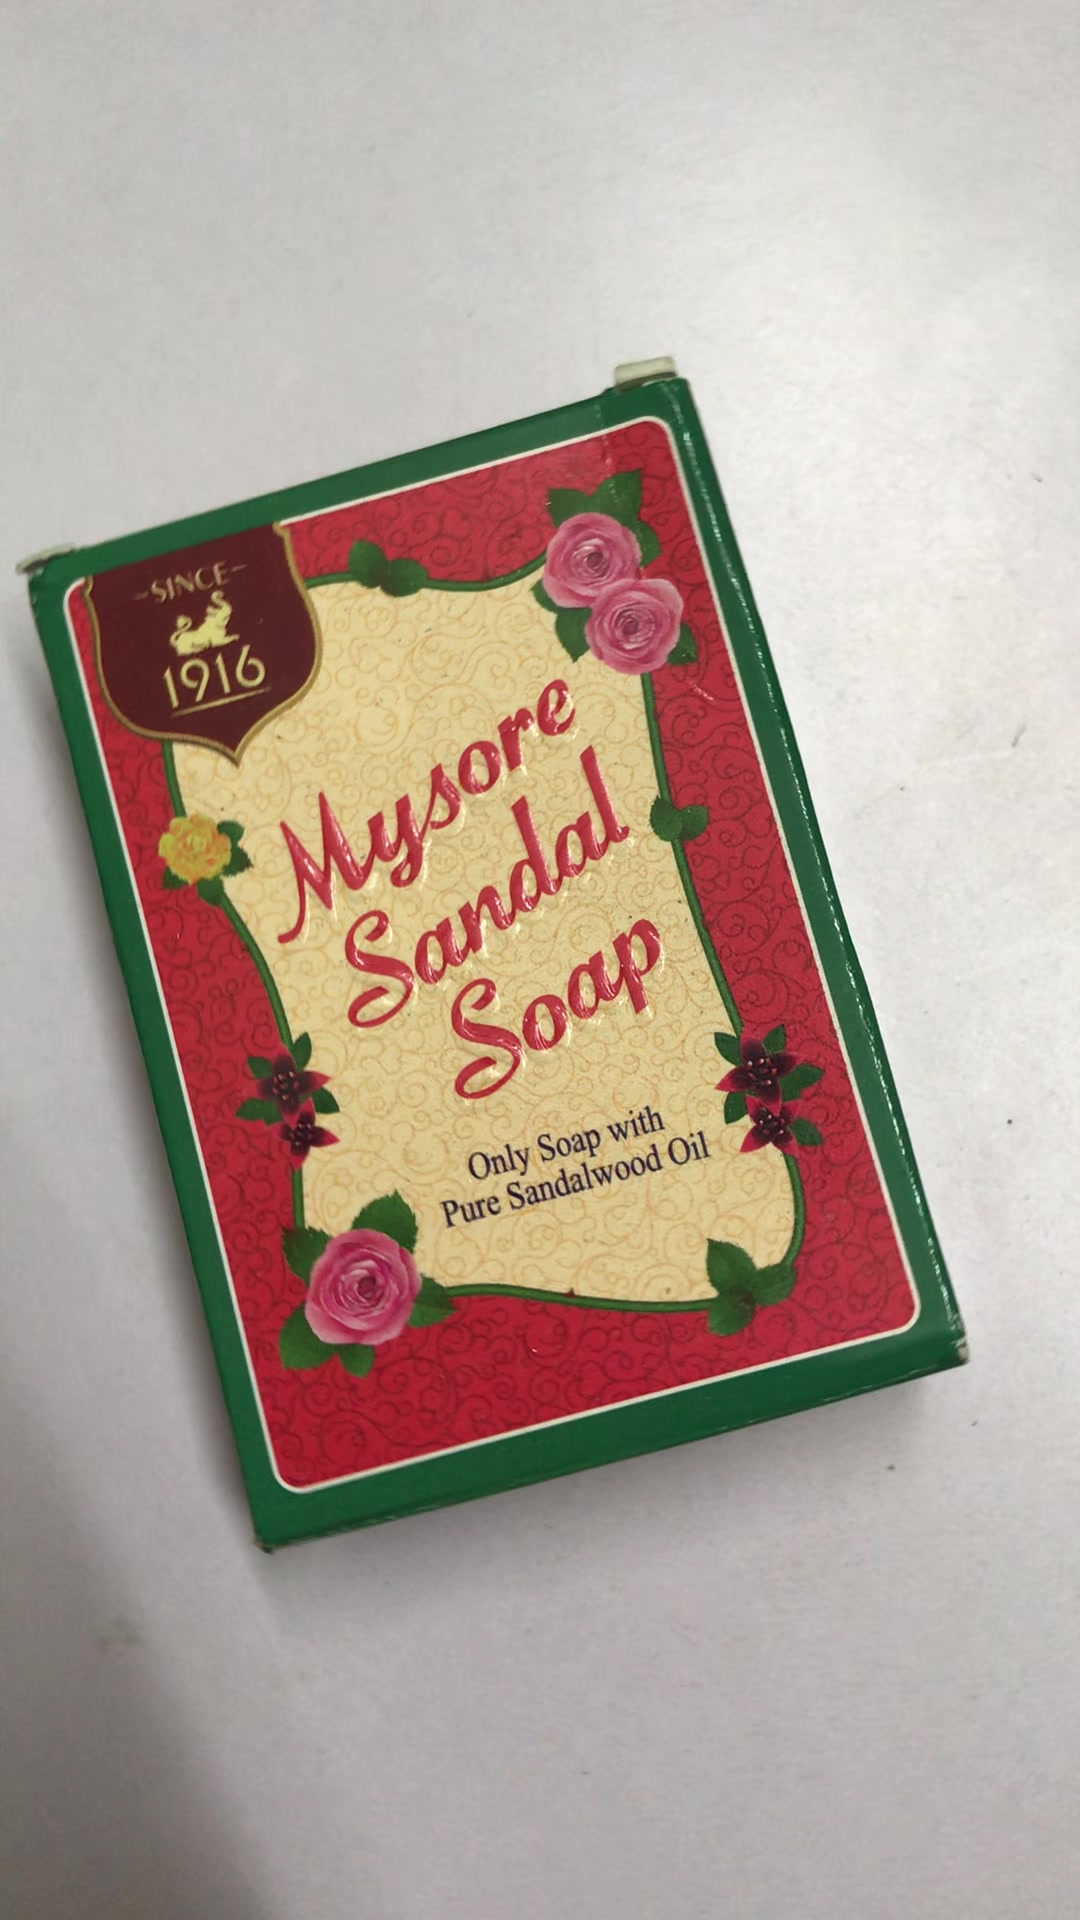mysore sandal soap: (13, 369, 968, 1552)
